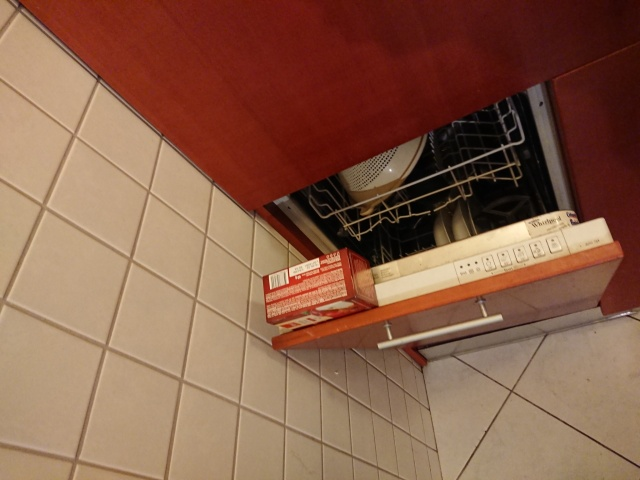Franck Apple Cinnamon Tea 60g: (259, 245, 381, 334)
